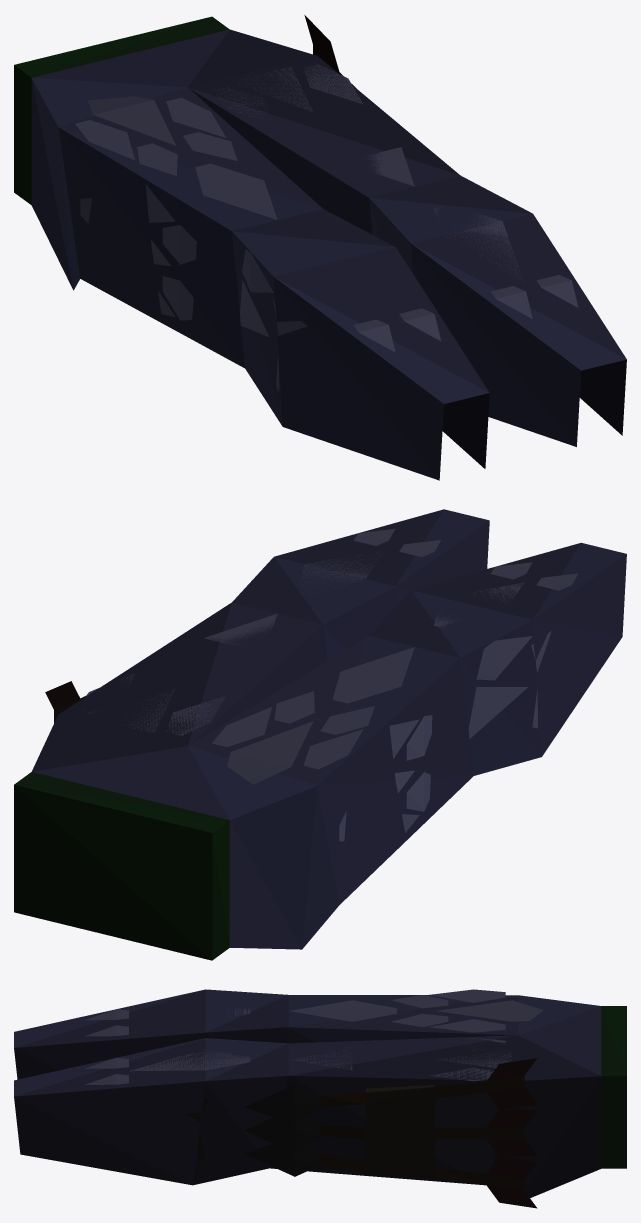
File: blue-dhide-chaps.obj
The picture shows the model from 3 angles, top to bottom: view 1: azimuth 30°, elevation 25°; view 2: azimuth 150°, elevation 25°; view 3: azimuth 270°, elevation 25°; orthographic projection. The views are drawn at different scales.
Parts seen in each view (by area): view 1: Item Blue d'hide chaps 2026-09-24_17-11-05; view 2: Item Blue d'hide chaps 2026-09-24_17-11-05; view 3: Item Blue d'hide chaps 2026-09-24_17-11-05.
Boxes of the visible parts, left/top/right/bottom form: Item Blue d'hide chaps 2026-09-24_17-11-05: left=14, top=15, right=626, bottom=480; Item Blue d'hide chaps 2026-09-24_17-11-05: left=14, top=509, right=626, bottom=960; Item Blue d'hide chaps 2026-09-24_17-11-05: left=14, top=989, right=626, bottom=1208.
Bounding box in the file's own units: 34 × 26 × 96.
